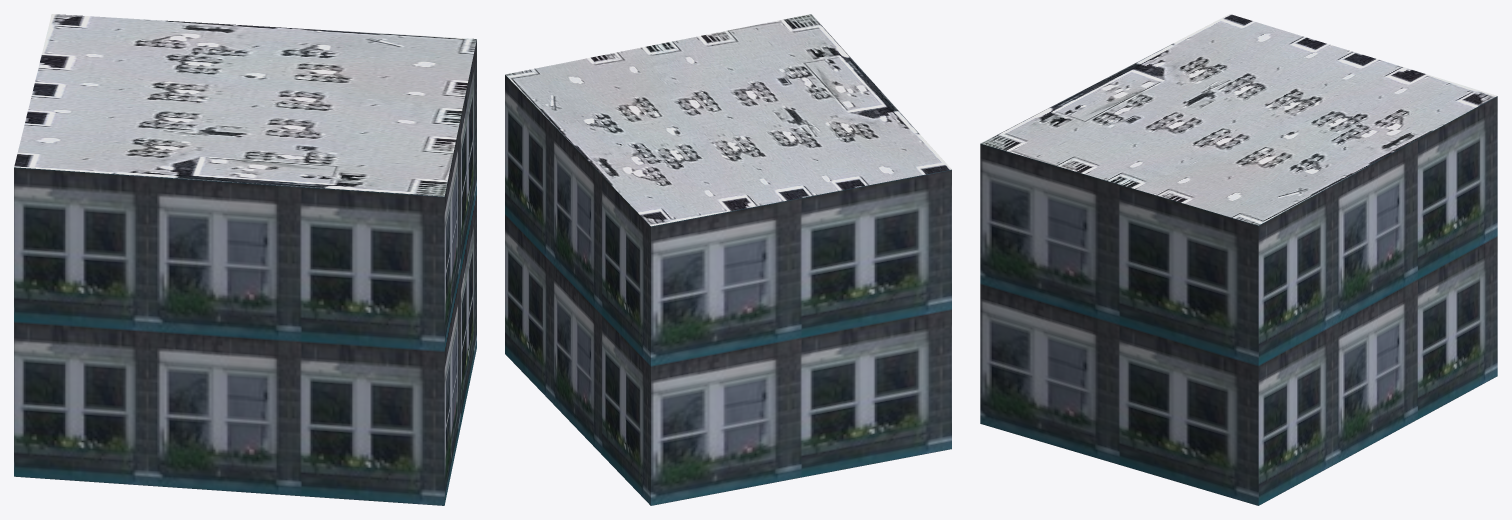
Rendered from ResTex__1339.fbx.
The picture shows the model from 3 angles, left to right: view 1: azimuth 30°, elevation 25°; view 2: azimuth 150°, elevation 25°; view 3: azimuth 270°, elevation 25°; orthographic projection. The views are drawn at different scales.
Parts seen in each view (by area): view 1: CityEngineMaterial_11_m, CityEngineMaterial_4_m; view 2: CityEngineMaterial_11_m, CityEngineMaterial_4_m; view 3: CityEngineMaterial_11_m, CityEngineMaterial_4_m.
Boxes of the visible parts, x1,y1,x2,y2 form: CityEngineMaterial_11_m: (14, 39, 476, 505); CityEngineMaterial_4_m: (14, 14, 476, 196); CityEngineMaterial_11_m: (505, 75, 951, 505); CityEngineMaterial_4_m: (505, 14, 951, 226); CityEngineMaterial_11_m: (980, 96, 1497, 505); CityEngineMaterial_4_m: (980, 14, 1496, 225).
Size of the model in its own units: 9.71 by 6 by 10.03.
2 materials, 2 textured.
